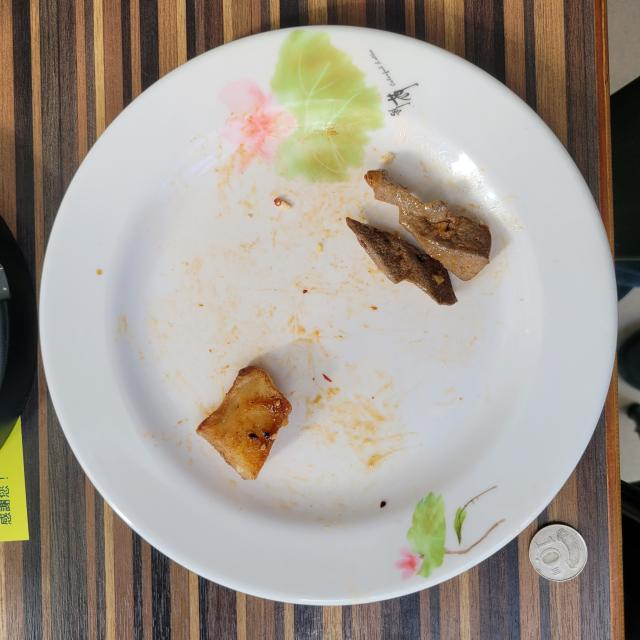coin: (529, 524, 588, 581)
fried potato: (196, 366, 291, 480)
pig liver: (346, 170, 491, 305)
